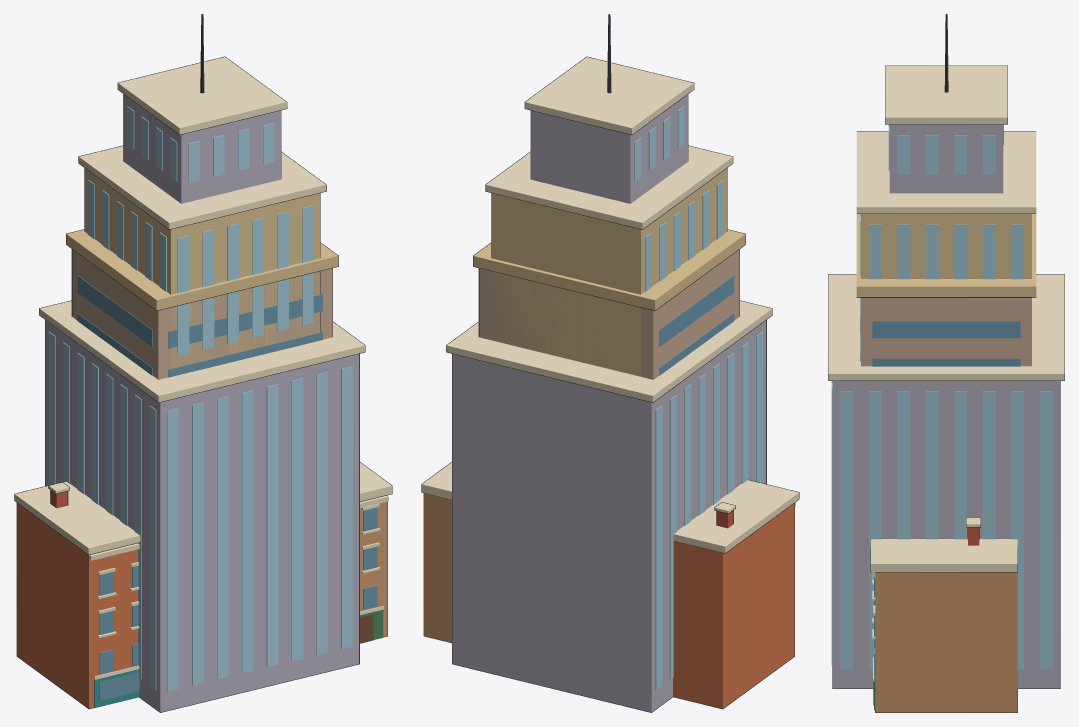
The model's file is fps-kit-smallcity.glb.
3 views of the same model, side by side, from view 1: azimuth 30°, elevation 25°; view 2: azimuth 150°, elevation 25°; view 3: azimuth 270°, elevation 25° (orthographic).
Visible parts, largest first — view 1: KIT_SMALLCITY_Backdrop_Office, KIT_SMALLCITY_Backdrop_Row, KIT_SMALLCITY_Backdrop_Tower; view 2: KIT_SMALLCITY_Backdrop_Office, KIT_SMALLCITY_Backdrop_Row, KIT_SMALLCITY_Backdrop_Tower; view 3: KIT_SMALLCITY_Backdrop_Office, KIT_SMALLCITY_Backdrop_Row, KIT_SMALLCITY_Backdrop_Tower.
Part boxes in pixels (x1,y1,x2,y2): KIT_SMALLCITY_Backdrop_Office: (39,14,365,712); KIT_SMALLCITY_Backdrop_Row: (14,462,392,709); KIT_SMALLCITY_Backdrop_Tower: (66,229,338,379); KIT_SMALLCITY_Backdrop_Office: (446,14,772,712); KIT_SMALLCITY_Backdrop_Row: (421,462,799,709); KIT_SMALLCITY_Backdrop_Tower: (473,229,745,379); KIT_SMALLCITY_Backdrop_Office: (828,14,1064,688); KIT_SMALLCITY_Backdrop_Row: (870,517,1017,712); KIT_SMALLCITY_Backdrop_Tower: (856,214,1036,366).
Size of the model in its own units: 24.44 by 48.54 by 16.64.
1 material, 1 textured.
